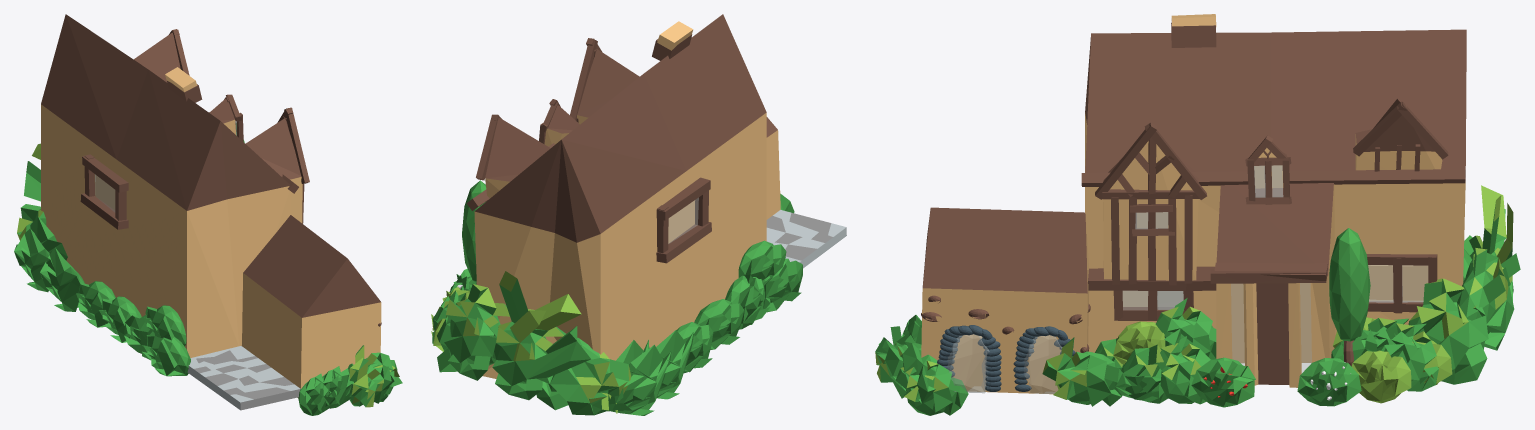
The model's file is Brit's House.glb.
3 views of the same model, side by side, from view 1: azimuth 30°, elevation 25°; view 2: azimuth 150°, elevation 25°; view 3: azimuth 270°, elevation 25° (orthographic). The views are drawn at different scales.
Parts seen in each view (by area): view 1: Node; view 2: Node; view 3: Node.
Boxes of the visible parts, bbox=[...] form: Node: bbox=[14, 14, 402, 415]; Node: bbox=[431, 14, 846, 415]; Node: bbox=[875, 14, 1520, 415].
Bounding box in the file's own units: 0.2972 × 0.3498 × 0.5937.
